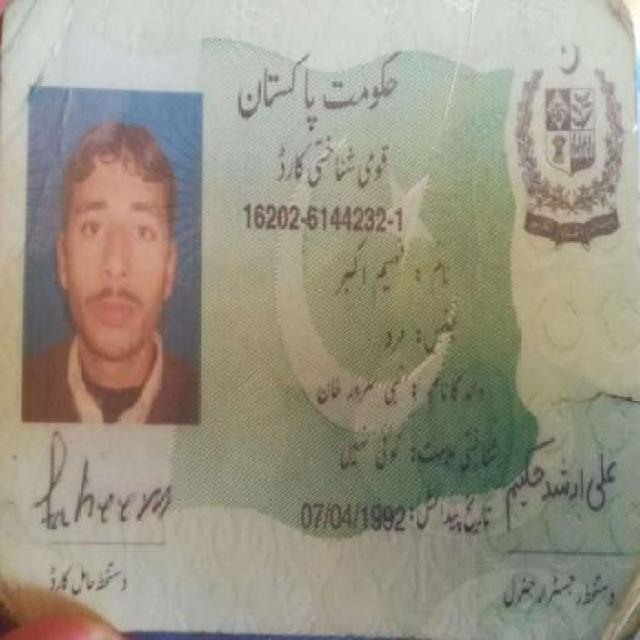Front: (3, 8, 635, 618)
